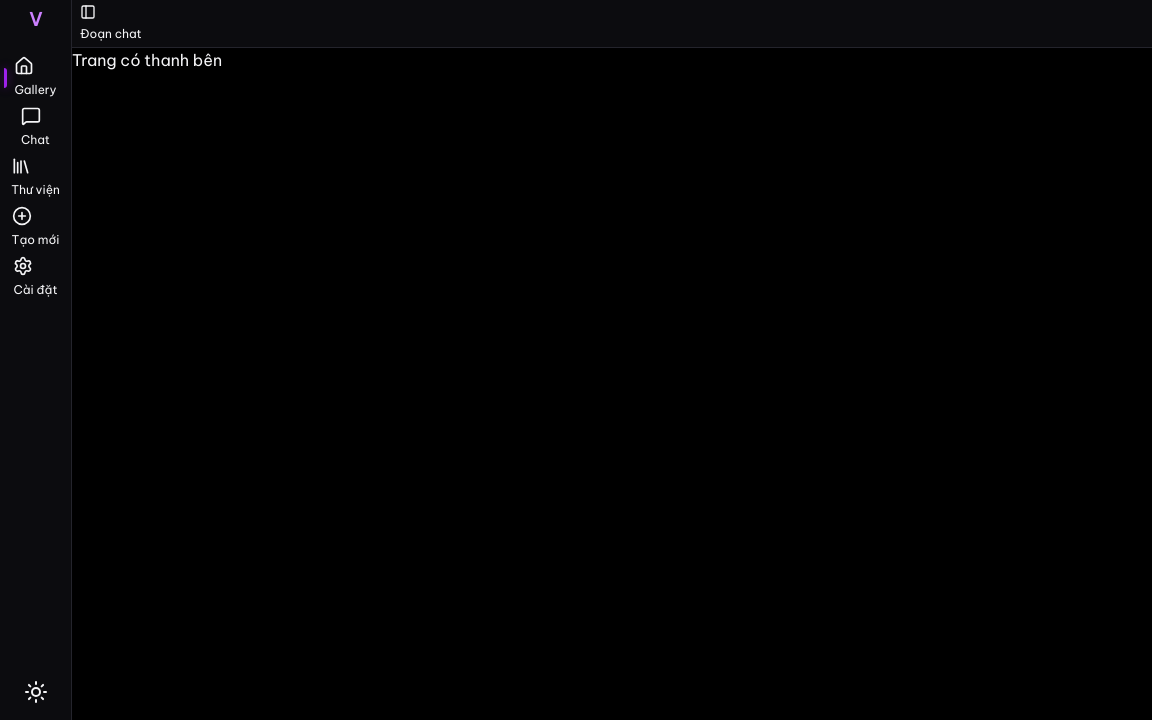
Scenario: AppLayout & Wave 2 IA › auto-closes mobile/tablet Sheet drawer when navigating to another route
Click the button with aria-label "Mở thanh bên trái" at (111, 24), box x1=80 y1=4 x2=142 y2=44
(page scrolled)
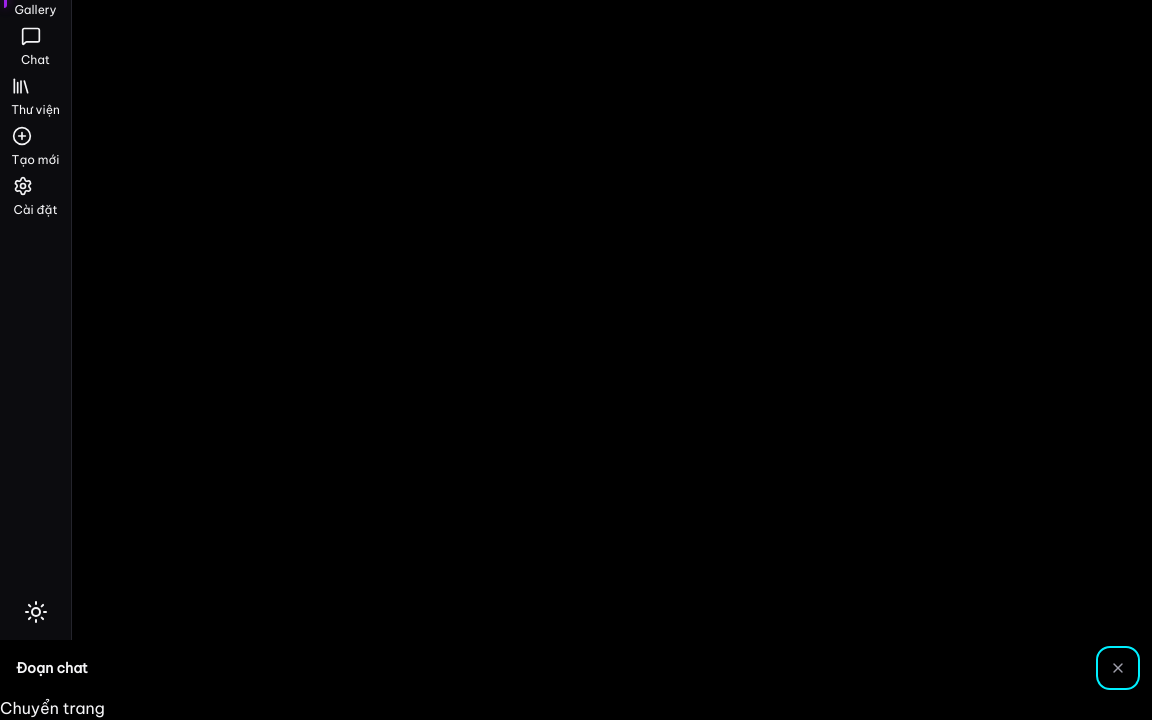
Check: the link "Chuyển trang" is shown
Click the link "Chuyển trang" at (52, 708), box x1=0 y1=698 x2=105 y2=718
(page scrolled)
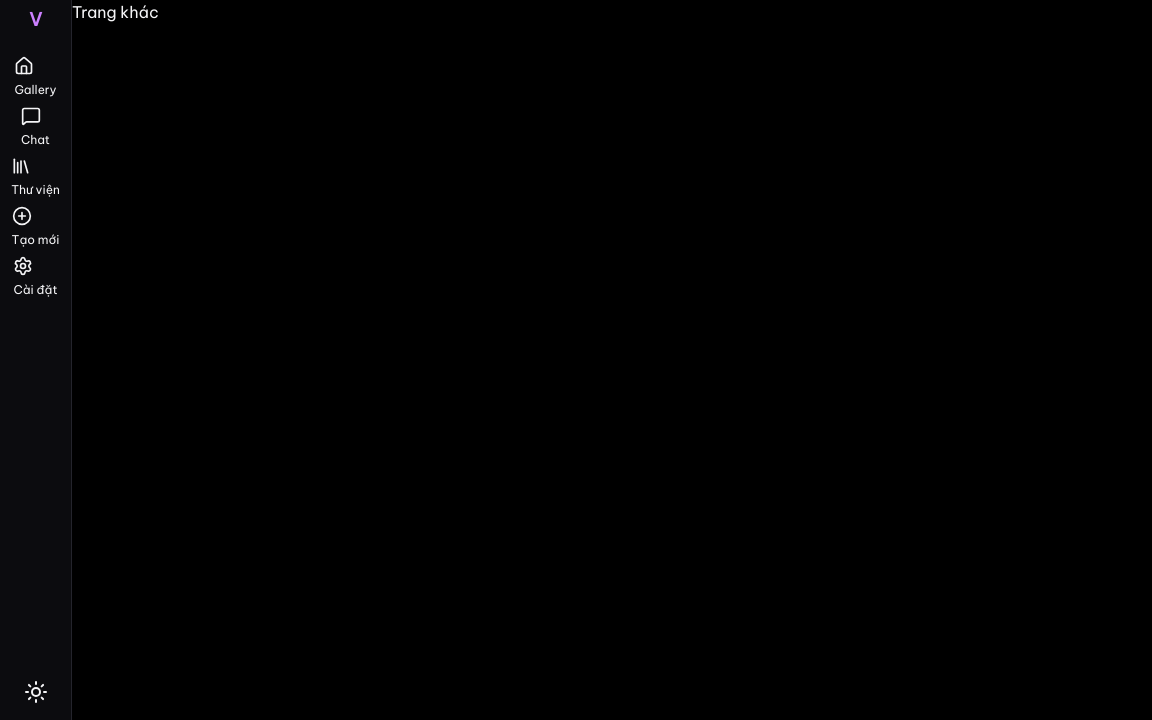
Check: the text "Trang khác" is shown, box x1=72 y1=2 x2=159 y2=22
Check: the link "Chuyển trang" is gone
